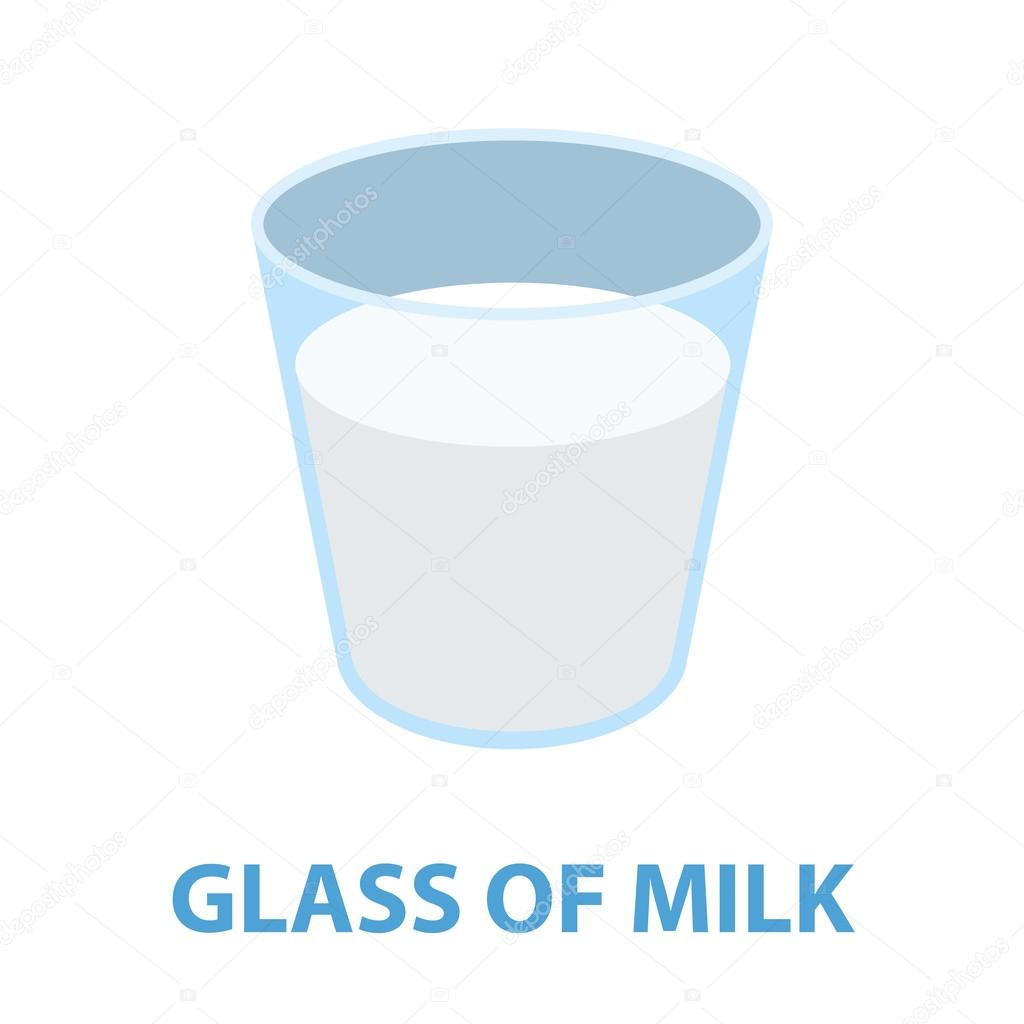glass of milk: (278, 196, 729, 737)
